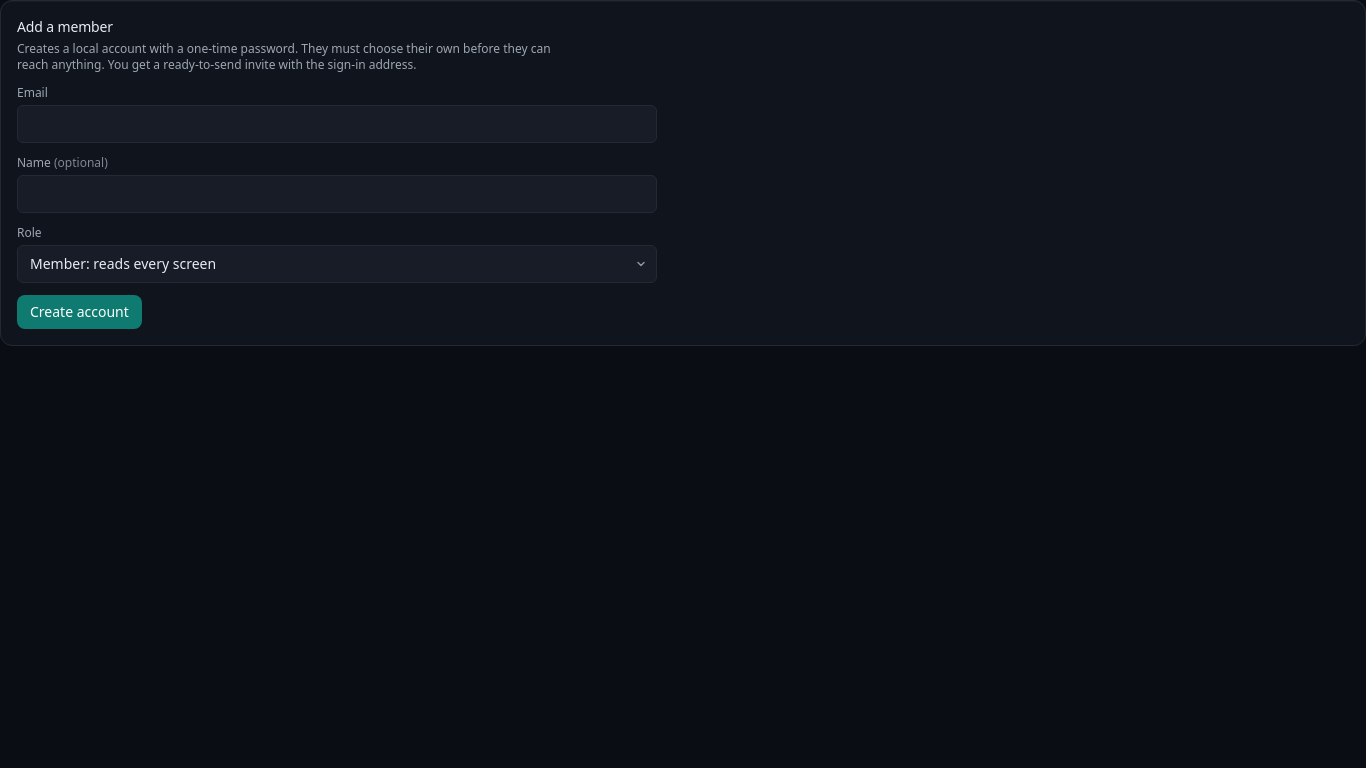
CreateUser (W15-04) › does not invent a password field when the admin supplied one
Type "sam@example.com" into the field with test id "create-user-email". click: x=337, y=124
box: [17, 105, 657, 143]
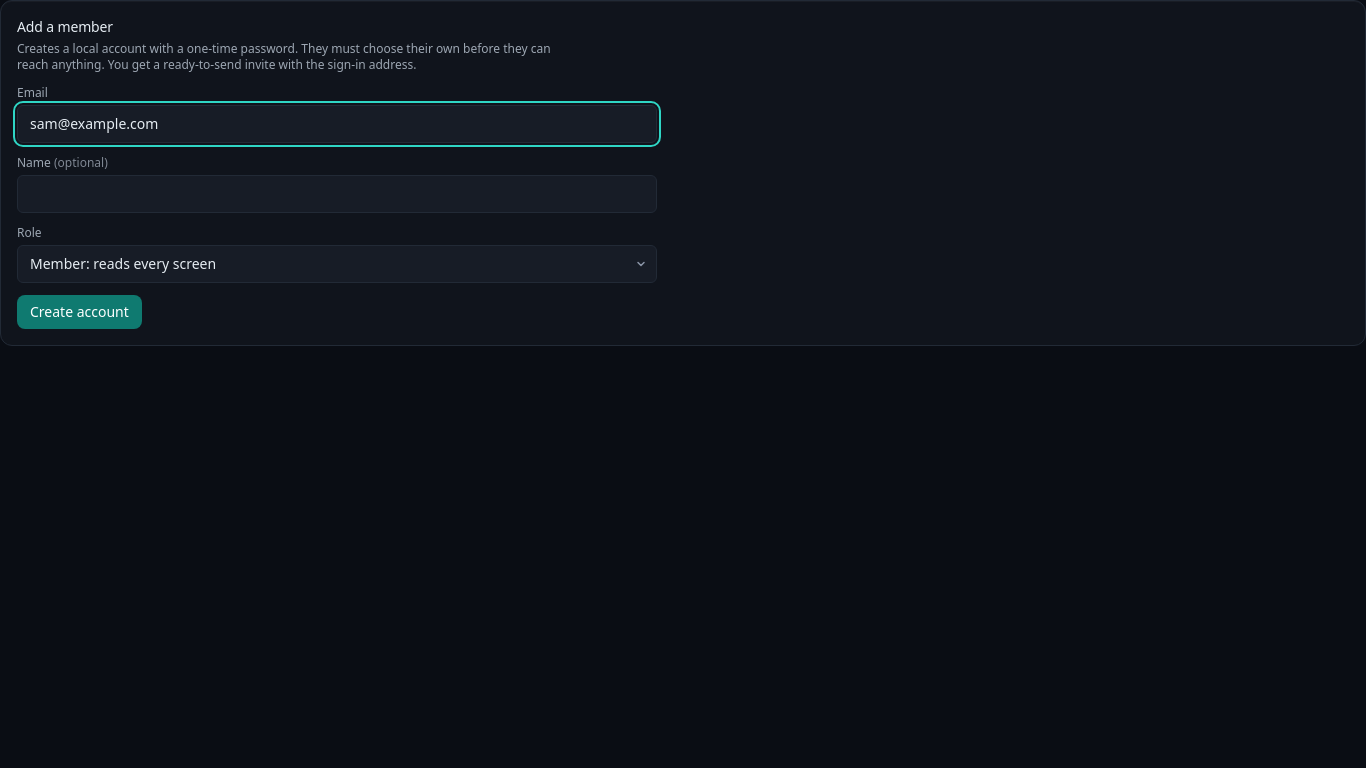
Click the button with test id "create-user-submit". click: x=79, y=312
box: [17, 295, 142, 329]
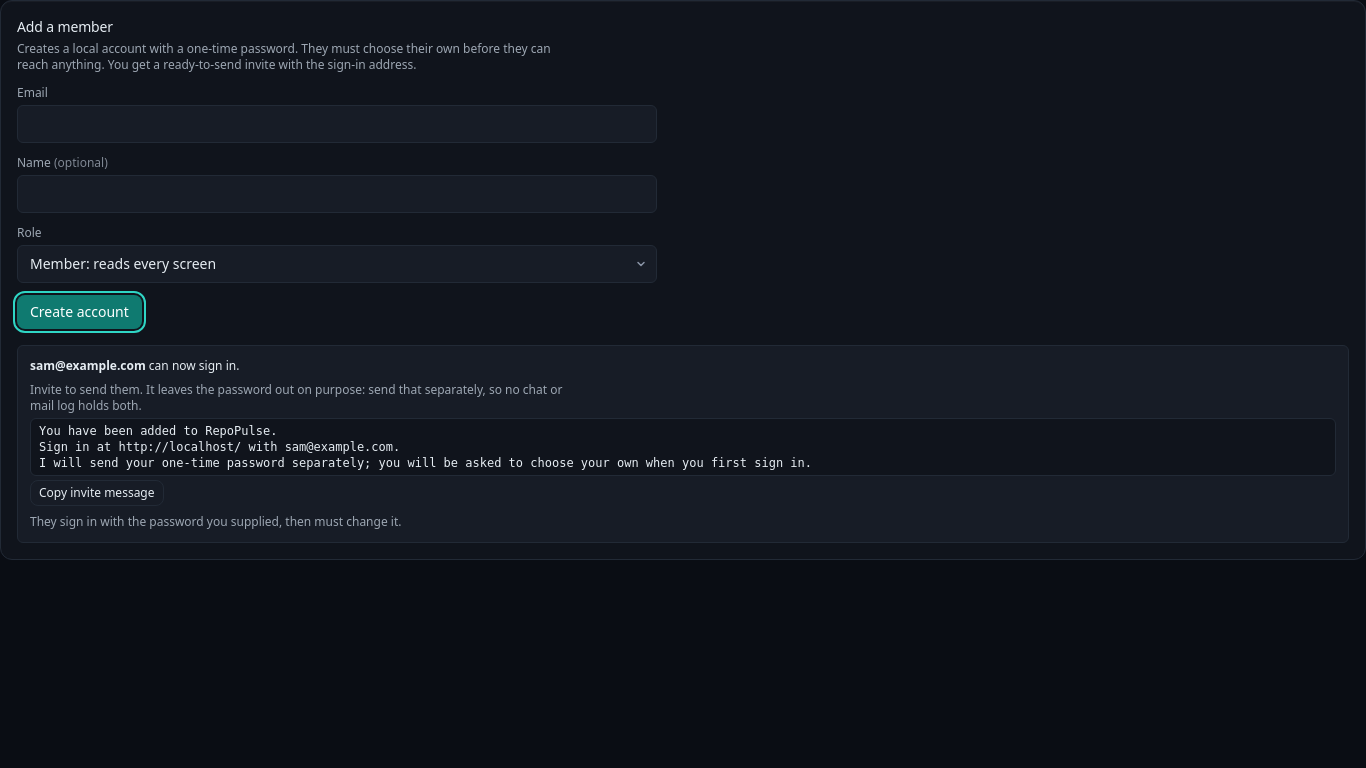
Result: the message with test id "create-user-result" is shown at [17, 345, 1349, 543]
